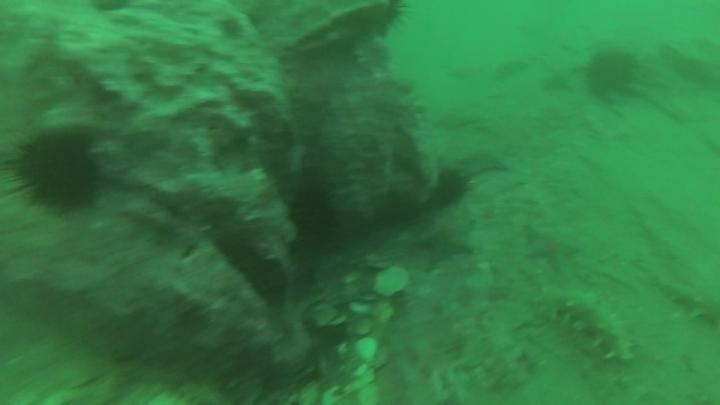echinus: (11, 128, 104, 215), (286, 181, 342, 250), (581, 46, 641, 102), (333, 1, 408, 43), (351, 34, 394, 77), (430, 166, 472, 209)
holothurian: (533, 285, 638, 367), (652, 269, 720, 330)
scallop: (374, 264, 410, 295)
starfish: (414, 211, 478, 267), (520, 220, 582, 275), (454, 145, 512, 180)
